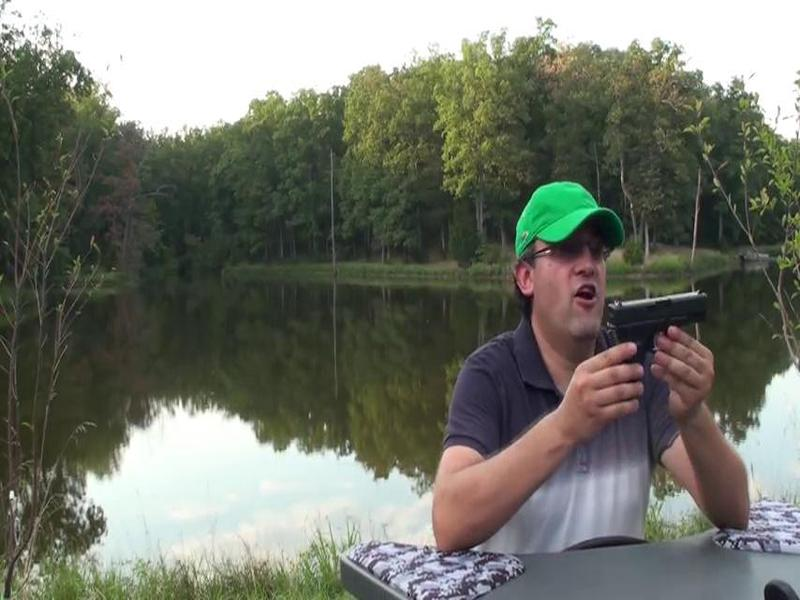Pistola: (597, 280, 713, 379)
